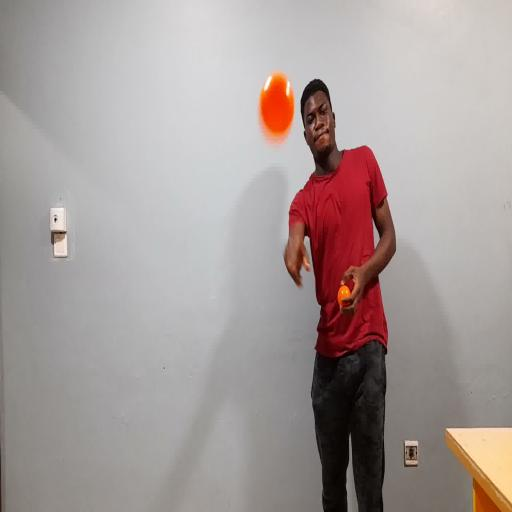plastic-ball: (255, 64, 298, 151)
